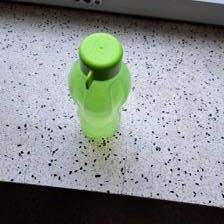bottle: (66, 31, 133, 142)
